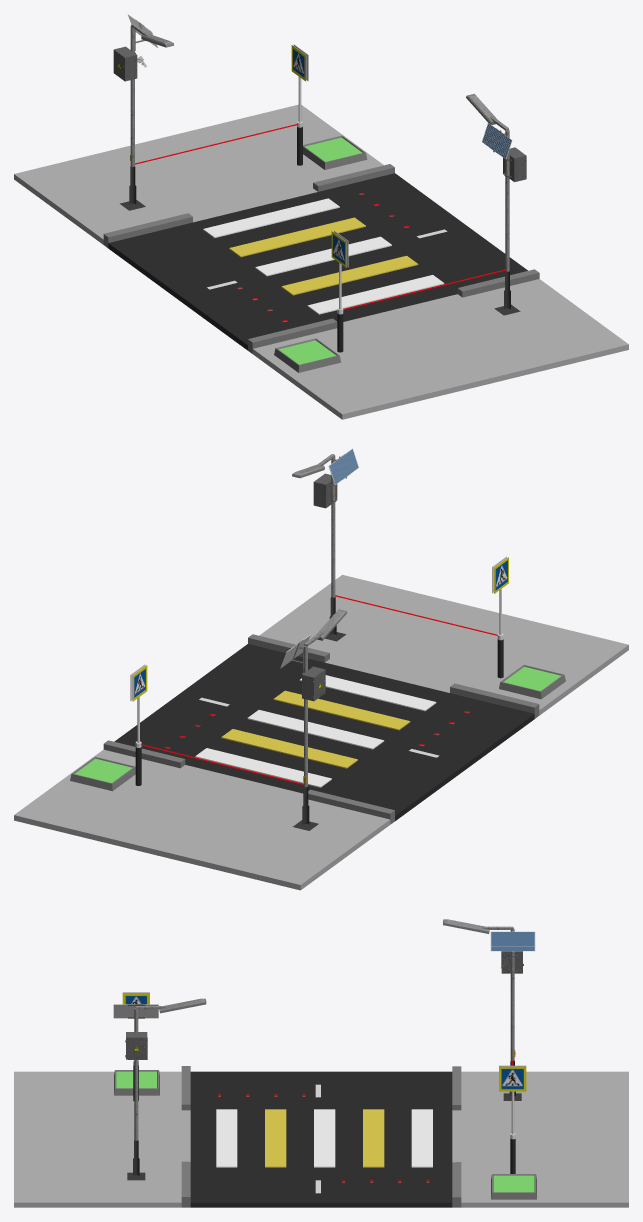
File: cross_road.glb
3 renders of one model, top to bottom at view 1: azimuth 30°, elevation 25°; view 2: azimuth 150°, elevation 25°; view 3: azimuth 270°, elevation 25°, orthographic. The views are drawn at different scales.
Parts seen in each view (by area): view 1: object 3, object 4, object 6, object 5, object 16, object 21, object 26, object 27, Plane.001_13, Cube.008_12; view 2: object 3, object 4, object 6, object 5, object 16, object 21, object 26, object 27, Cube.008_12, Plane.001_13; view 3: object 3, object 4, object 5, object 6, object 16, Plane.005_9, object 26, object 21, Plane.001_13, Cube.009_11, Cube.003_7.
Boxes of the visible parts, x1,y1,x2,y2 form: object 3: (14,104,628,419); object 4: (203,198,444,314); object 6: (274,338,341,372); object 5: (303,135,367,169); object 16: (490,116,520,315); object 21: (120,23,150,210); object 26: (291,44,308,122); object 27: (331,230,348,309); Plane.001_13: (482,122,512,159); Cube.008_12: (503,147,526,182); object 3: (14,575,628,890); object 4: (195,675,436,787); object 6: (499,665,565,699); object 5: (70,756,135,791); object 16: (315,454,345,641); object 21: (293,631,323,830); object 26: (130,664,147,742); object 27: (492,556,508,635); Cube.008_12: (314,474,337,508); Plane.001_13: (328,448,358,484); object 3: (14,1066,628,1207); object 4: (216,1109,432,1167); object 5: (491,1174,536,1199); object 6: (114,1070,159,1095); object 16: (127,1006,167,1180); Plane.005_9: (490,931,535,951); object 26: (499,1065,526,1134); object 21: (481,926,521,1100); Plane.001_13: (113,1004,158,1018); Cube.009_11: (126,1037,147,1059); Cube.003_7: (501,951,523,973).
Size of the model in its own units: 1.4 by 0.9094 by 2.79.
Materials: 28 (5 with a texture image).
